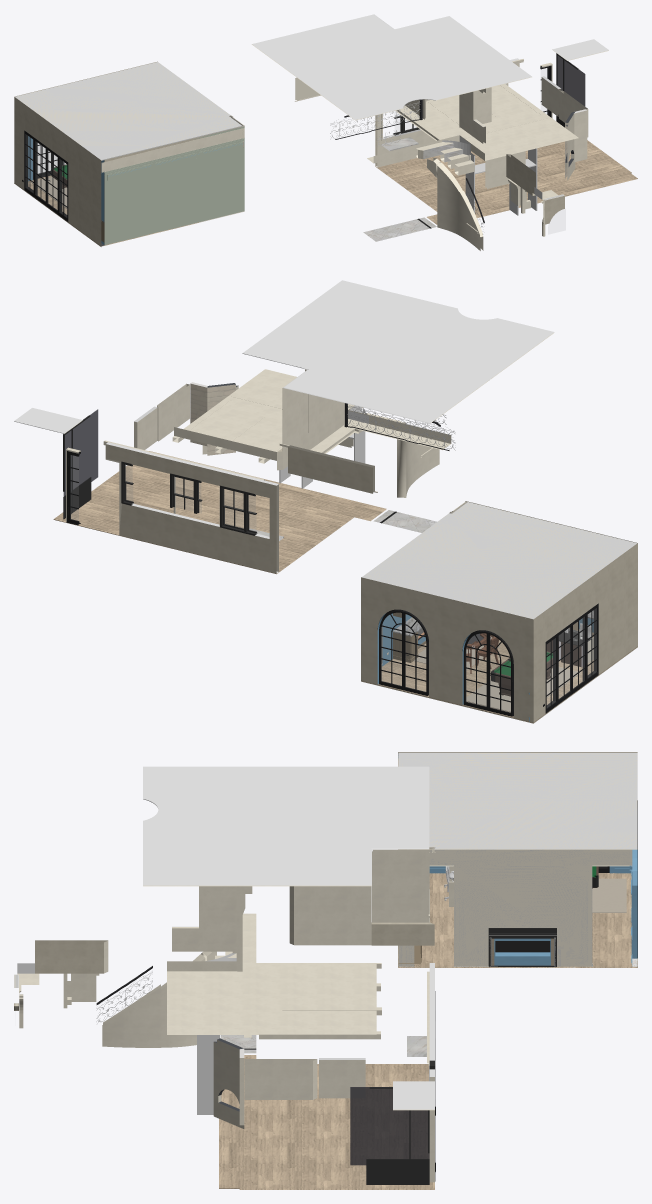
The model's file is game-room-cb7116b82a19.glb.
3 renders of one model, top to bottom at view 1: azimuth 30°, elevation 25°; view 2: azimuth 150°, elevation 25°; view 3: azimuth 270°, elevation 25°, orthographic. The views are drawn at different scales.
Parts seen in each view (by area): view 1: game-room-look-9d91b47435c6fb33, game-room-4a969f5cc1ae3dfe, game-room-30c5953c9ad73e5d, game-room-look-3b0077416469e01b, game-room-look-2575515a05775d9e, game-room-039192b0560cfac3, game-room-50d54560d247b537, game-room-look-8c6a7019fd0063e7, game-room-2575515a05775d9e, game-room-f4800b31bfeb29e4, game-room-look-bfb9fa537cd11d1d, game-room-look-cbd4bf73d9724a66 (+19 smaller); view 2: game-room-look-9d91b47435c6fb33, game-room-4a969f5cc1ae3dfe, game-room-look-3b0077416469e01b, game-room-969b861f9850351e, game-room-look-bfb9fa537cd11d1d, game-room-039192b0560cfac3, game-room-look-2575515a05775d9e, game-room-50d54560d247b537, game-room-3b0077416469e01b, game-room-look-245f595ae2832e16, game-room-ebdc05650cf31826, game-room-ca241f91fd698c40 (+23 smaller); view 3: game-room-look-9d91b47435c6fb33, game-room-4a969f5cc1ae3dfe, game-room-look-3b0077416469e01b, game-room-3e6709f91b43c3bf, game-room-look-2575515a05775d9e, game-room-50d54560d247b537, game-room-55ff1dfd7b659ec1, game-room-3b0077416469e01b, game-room-look-69af8f587252f9fa, game-room-look-cbd4bf73d9724a66, game-room-look-32b959c9aa406288, game-room-look-8c6a7019fd0063e7 (+19 smaller).
Part boxes in pixels (x1,y1,x2,y2): game-room-look-9d91b47435c6fb33: [251, 14, 531, 120]; game-room-4a969f5cc1ae3dfe: [14, 62, 242, 160]; game-room-30c5953c9ad73e5d: [104, 126, 244, 245]; game-room-look-3b0077416469e01b: [375, 140, 637, 224]; game-room-look-2575515a05775d9e: [367, 84, 578, 163]; game-room-039192b0560cfac3: [14, 97, 104, 246]; game-room-50d54560d247b537: [14, 61, 243, 160]; game-room-look-8c6a7019fd0063e7: [427, 157, 483, 250]; game-room-2575515a05775d9e: [101, 128, 244, 172]; game-room-f4800b31bfeb29e4: [24, 130, 68, 221]; game-room-look-bfb9fa537cd11d1d: [375, 58, 519, 167]; game-room-look-cbd4bf73d9724a66: [557, 55, 585, 106]; game-room-look-9d91b47435c6fb33: [242, 280, 554, 423]; game-room-4a969f5cc1ae3dfe: [361, 502, 637, 619]; game-room-look-3b0077416469e01b: [53, 451, 386, 574]; game-room-969b861f9850351e: [361, 578, 529, 721]; game-room-look-bfb9fa537cd11d1d: [105, 442, 278, 573]; game-room-039192b0560cfac3: [529, 544, 637, 722]; game-room-look-2575515a05775d9e: [174, 369, 451, 460]; game-room-50d54560d247b537: [361, 502, 637, 619]; game-room-3b0077416469e01b: [361, 636, 637, 722]; game-room-look-245f595ae2832e16: [288, 445, 374, 493]; game-room-ebdc05650cf31826: [487, 632, 512, 716]; game-room-ca241f91fd698c40: [403, 612, 427, 695]; game-room-look-9d91b47435c6fb33: [143, 766, 429, 886]; game-room-4a969f5cc1ae3dfe: [398, 752, 637, 849]; game-room-look-3b0077416469e01b: [219, 1055, 434, 1189]; game-room-3e6709f91b43c3bf: [398, 849, 632, 966]; game-room-look-2575515a05775d9e: [167, 913, 376, 1034]; game-room-50d54560d247b537: [398, 752, 637, 849]; game-room-55ff1dfd7b659ec1: [398, 849, 631, 967]; game-room-3b0077416469e01b: [398, 873, 637, 967]; game-room-look-69af8f587252f9fa: [289, 886, 371, 945]; game-room-look-cbd4bf73d9724a66: [350, 1087, 429, 1165]; game-room-look-32b959c9aa406288: [372, 849, 429, 922]; game-room-look-8c6a7019fd0063e7: [102, 951, 216, 1047].
Size of the model in its own units: 21.68 by 6.36 by 16.78.
Materials: 68 (18 with a texture image).
